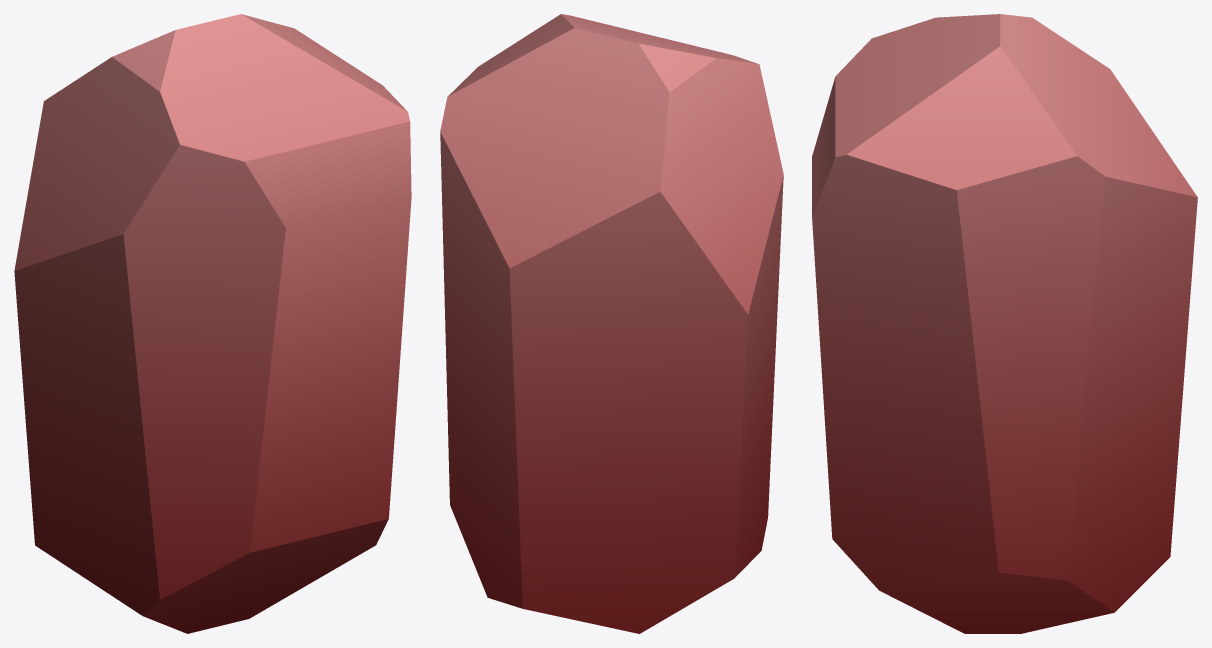
The model's file is Crystal_04.fbx.
3 views of the same model, side by side, from view 1: azimuth 30°, elevation 25°; view 2: azimuth 150°, elevation 25°; view 3: azimuth 270°, elevation 25° (orthographic). The views are drawn at different scales.
Visible parts, largest first — view 1: Crystal_04_LOD0; view 2: Crystal_04_LOD0; view 3: Crystal_04_LOD0.
Boxes of the visible parts, bbox=[...] form: Crystal_04_LOD0: bbox=[14, 14, 411, 633]; Crystal_04_LOD0: bbox=[440, 14, 783, 633]; Crystal_04_LOD0: bbox=[812, 14, 1197, 633].
Size of what is drawn, in the model's own units: 0.3472 by 0.6074 by 0.3584.
